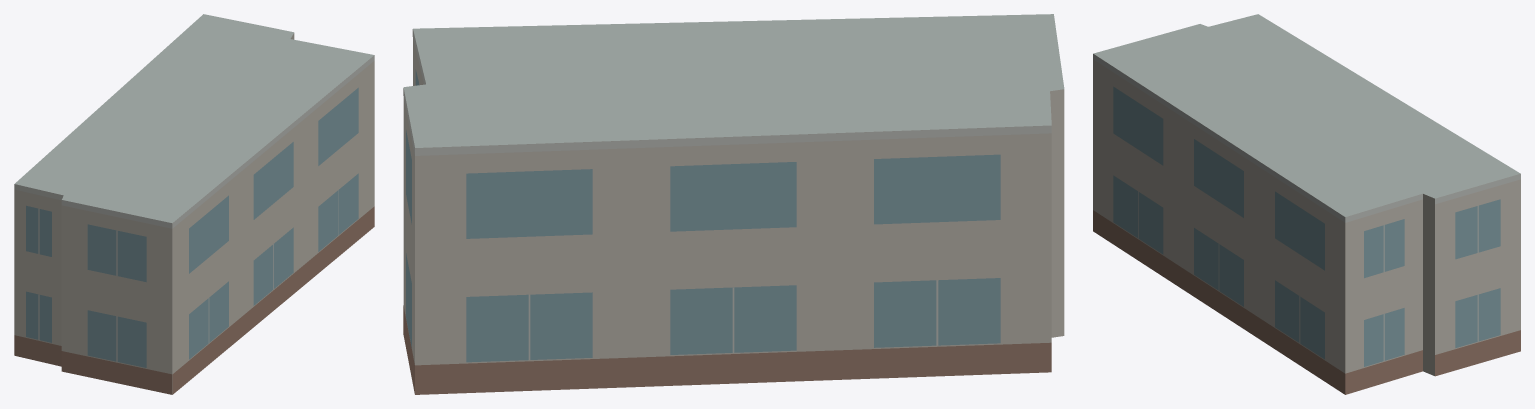
File: survey-upis-32990822.glb
The picture shows the model from 3 angles, left to right: view 1: azimuth 30°, elevation 25°; view 2: azimuth 150°, elevation 25°; view 3: azimuth 270°, elevation 25°; orthographic projection. The views are drawn at different scales.
Parts seen in each view (by area): view 1: survey-upis-32990822.tmp; view 2: survey-upis-32990822.tmp; view 3: survey-upis-32990822.tmp.
Boxes of the visible parts, x1,y1,x2,y2 form: survey-upis-32990822.tmp: (14,14,374,394); survey-upis-32990822.tmp: (403,14,1064,394); survey-upis-32990822.tmp: (1093,14,1520,394).
Bounding box in the file's own units: 18.65 × 7.6 × 16.59.
